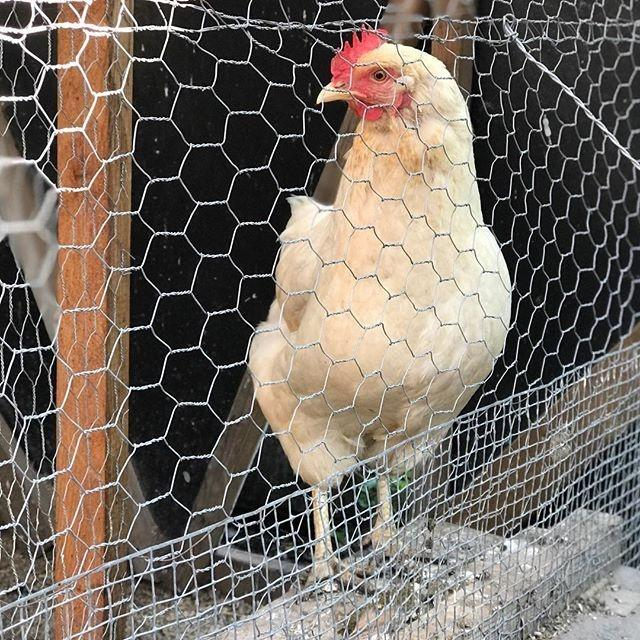Chicken: (250, 27, 511, 587)
